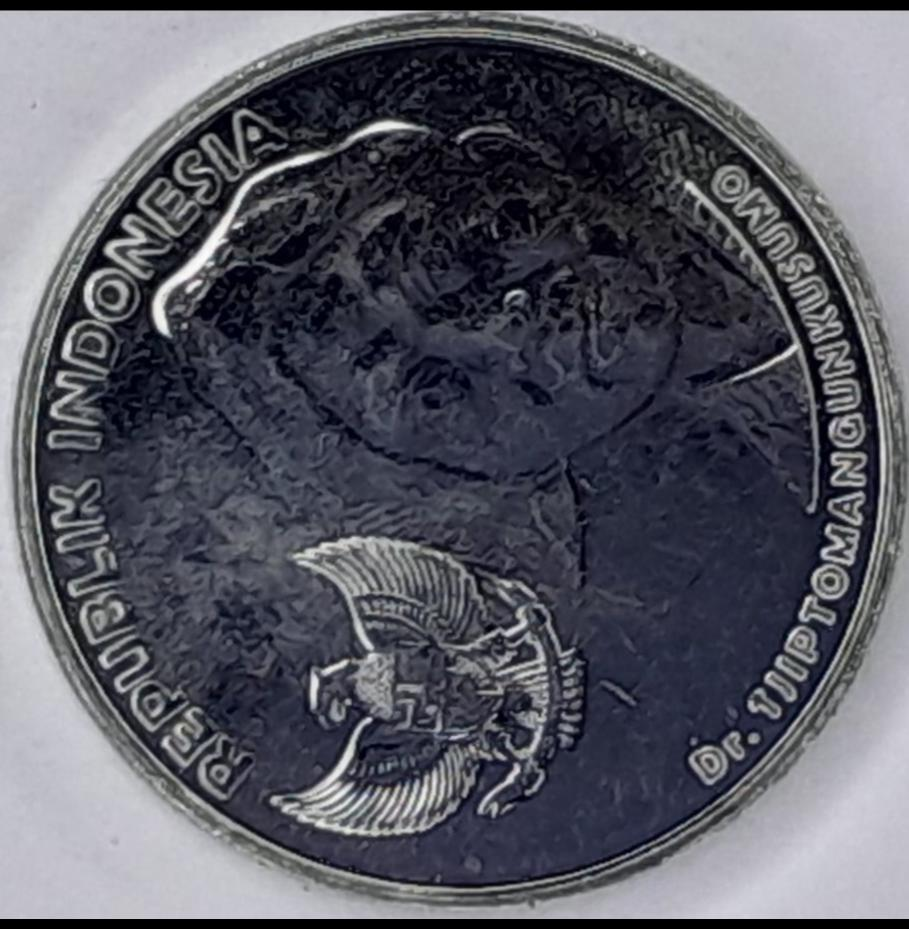coin_200_e2016: (0, 16, 909, 929)
